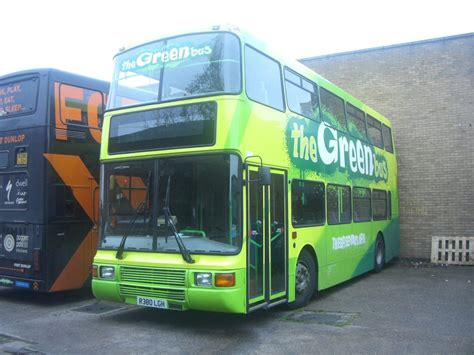bus: (94, 31, 399, 310)
